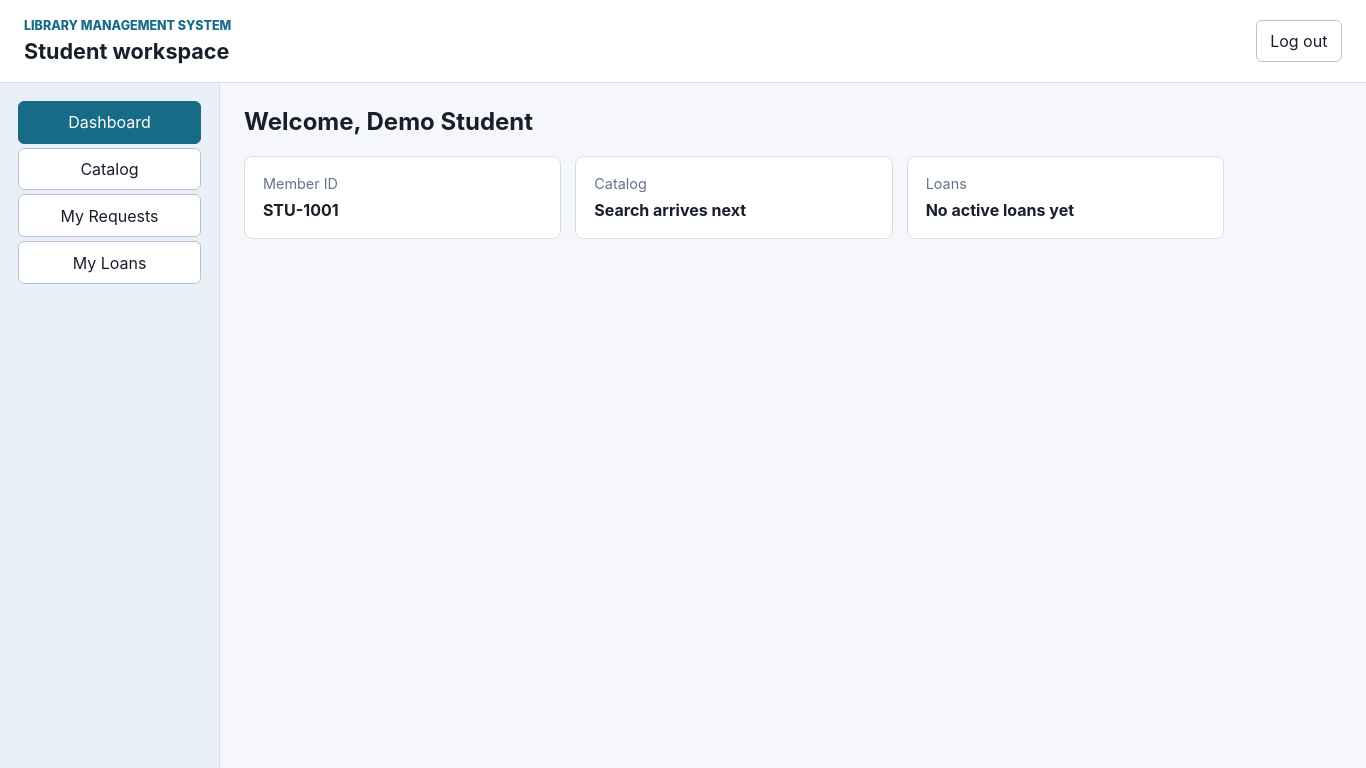
auth flow › logs out and returns to login
This screenshot has width=1366, height=768.
Expected: the heading "Student workspace" is shown, left=24, top=39, right=231, bottom=64
Click the button "Log out".
click(1299, 41)  # box left=1256, top=20, right=1342, bottom=62
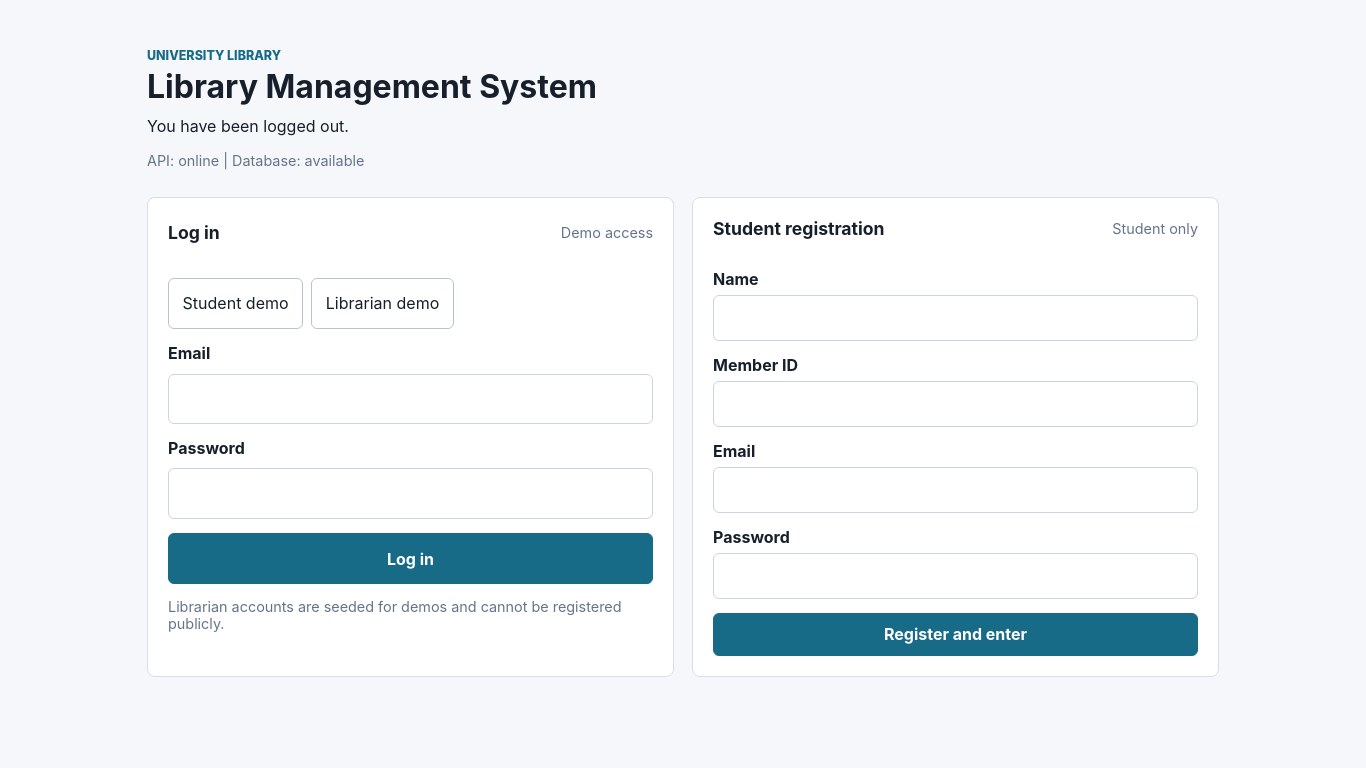
Expected: the text "You have been logged out." is shown, left=147, top=116, right=349, bottom=136
Expected: the button "Log in" is shown, left=168, top=533, right=653, bottom=584
